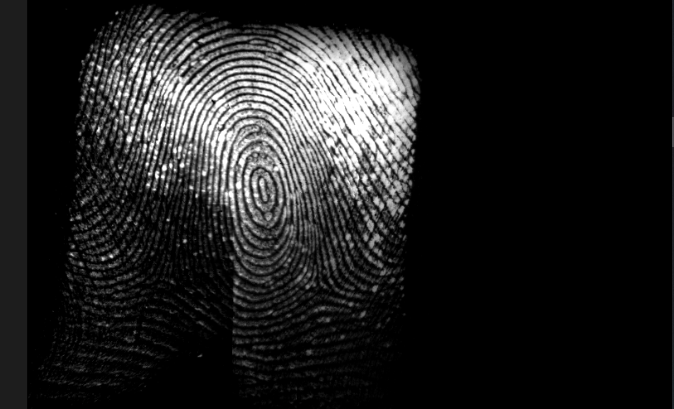deltas: (136, 245, 195, 306), (290, 256, 351, 310)
nucleo: (244, 157, 283, 215)
